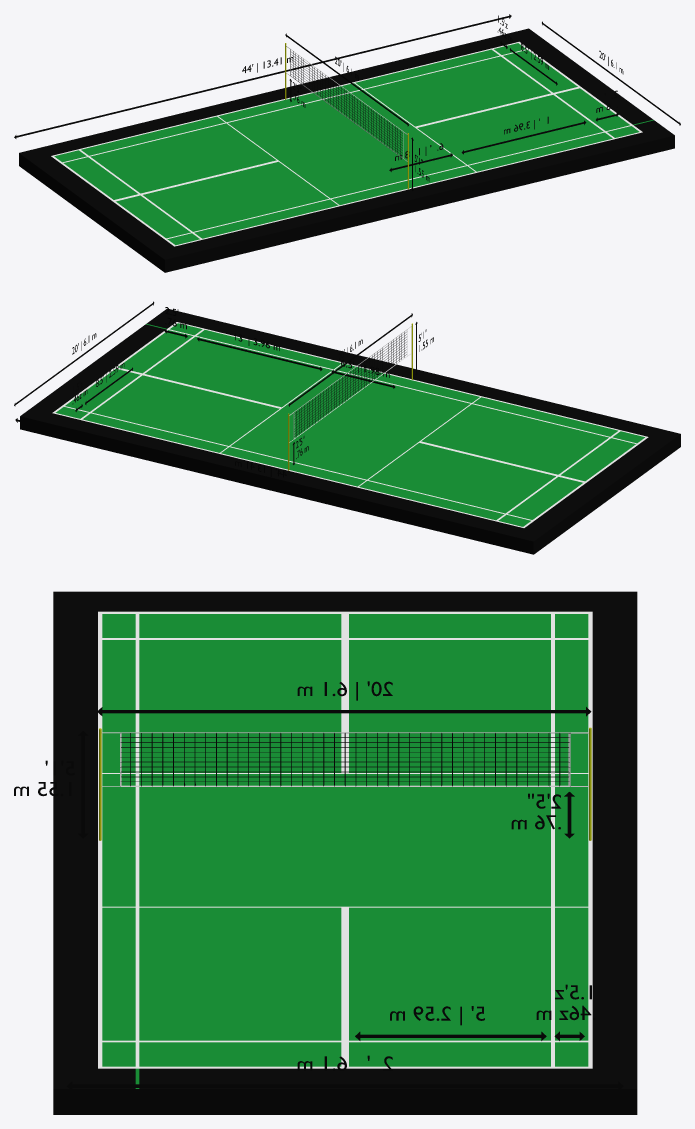
The model's file is badminton.fbx.
The picture shows the model from 3 angles, top to bottom: view 1: azimuth 30°, elevation 25°; view 2: azimuth 150°, elevation 25°; view 3: azimuth 270°, elevation 25°; orthographic projection. The views are drawn at different scales.
Visible parts, largest first — view 1: floor, net, Plane.002; view 2: floor, net, Plane.002; view 3: floor, net, Plane.001, Plane.008, Plane.006.
Boxes of the visible parts, left/top/right/bottom form: floor: left=19, top=28, right=674, bottom=272; net: left=285, top=43, right=408, bottom=189; Plane.002: left=14, top=14, right=511, bottom=138; floor: left=20, top=308, right=680, bottom=554; net: left=288, top=323, right=412, bottom=470; Plane.002: left=15, top=418, right=516, bottom=543; floor: left=53, top=591, right=637, bottom=1114; net: left=99, top=727, right=591, bottom=840; Plane.001: left=67, top=1081, right=623, bottom=1090; Plane.008: left=97, top=707, right=591, bottom=716; Plane.006: left=355, top=1031, right=546, bottom=1040.
Bounding box in the file's own units: 5250 × 895 × 2922.
